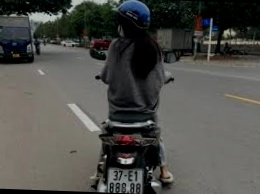Bien-so: (109, 165, 143, 190)
